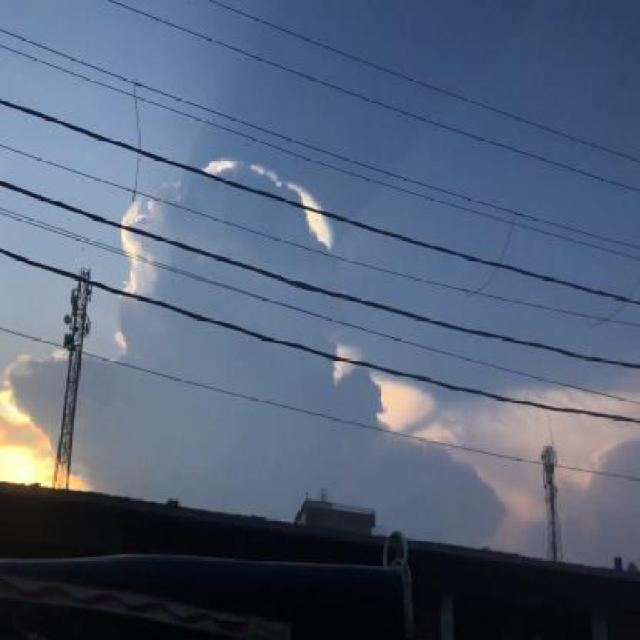bird: (81, 245, 85, 253)
